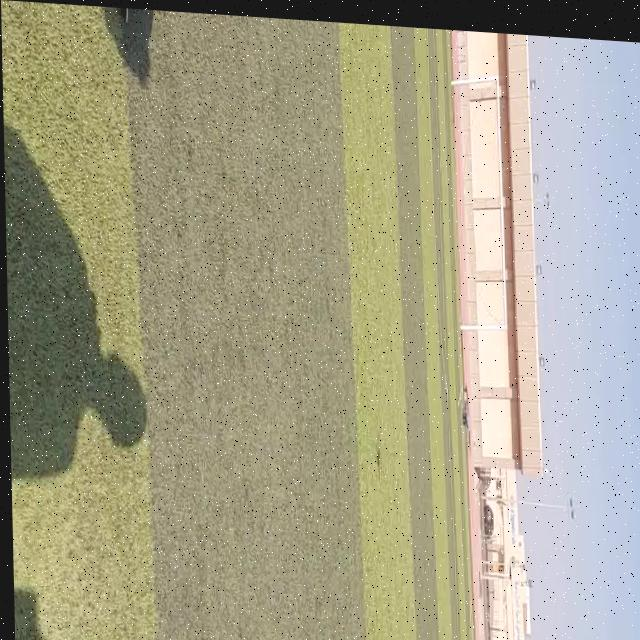drone: (449, 366, 476, 444)
